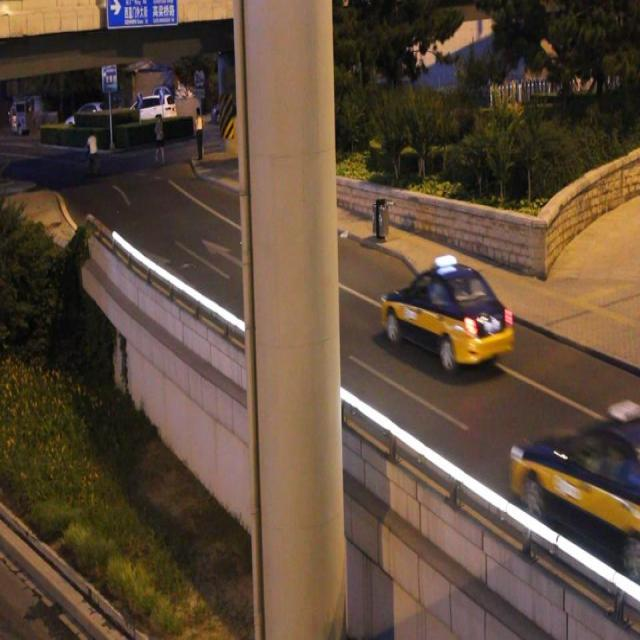car: (515, 421, 640, 562), (382, 262, 514, 361)
